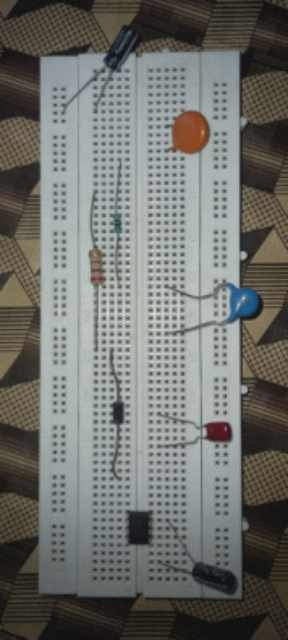capacitor: (172, 109, 215, 153), (192, 559, 242, 595), (102, 27, 138, 67), (228, 284, 260, 325), (202, 423, 235, 442)
resistor: (89, 247, 108, 287), (111, 214, 125, 238)
